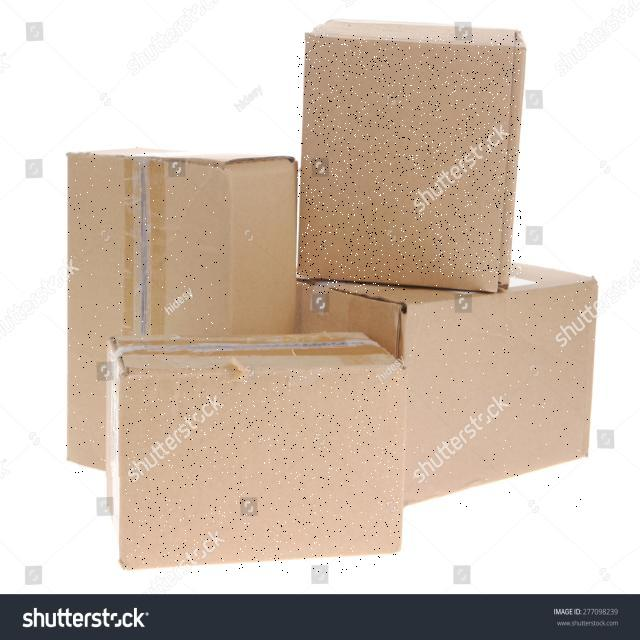BoxFace: (297, 35, 521, 294), (125, 368, 401, 573), (66, 153, 228, 477), (400, 278, 600, 507)
